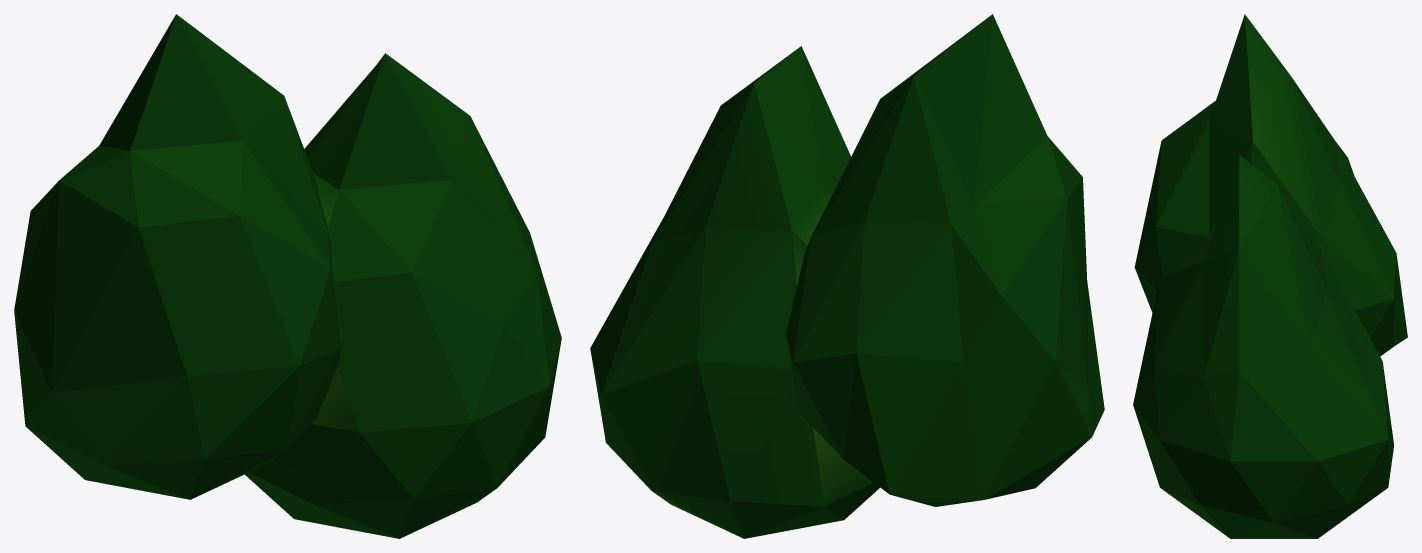
File: leaves.fbx
3 views of the same model, side by side, from view 1: azimuth 30°, elevation 25°; view 2: azimuth 150°, elevation 25°; view 3: azimuth 270°, elevation 25° (orthographic). The views are drawn at different scales.
Visible parts, largest first — view 1: Leaves; view 2: Leaves; view 3: Leaves.
Boxes of the visible parts, x1,y1,x2,y2 form: Leaves: [14, 14, 561, 538]; Leaves: [590, 14, 1104, 538]; Leaves: [1133, 14, 1407, 538].
Bounding box in the file's own units: 151 × 165 × 94.37.
